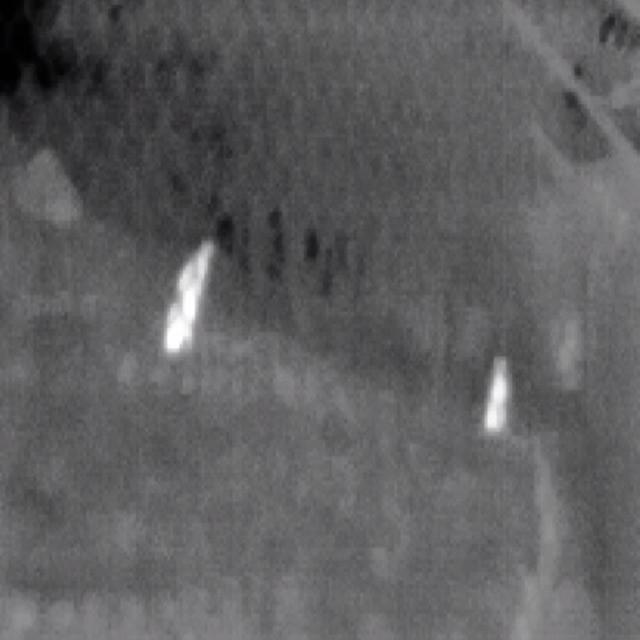cheetah: (164, 239, 215, 352), (485, 357, 508, 432)
